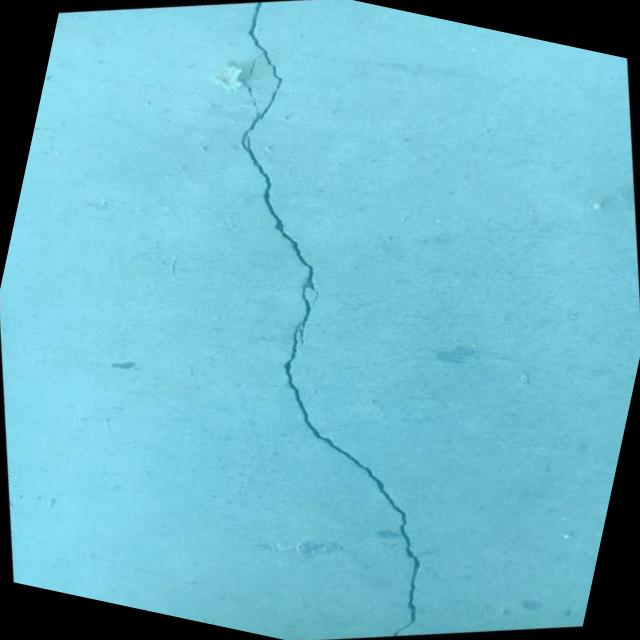crack: (107, 0, 550, 640)
